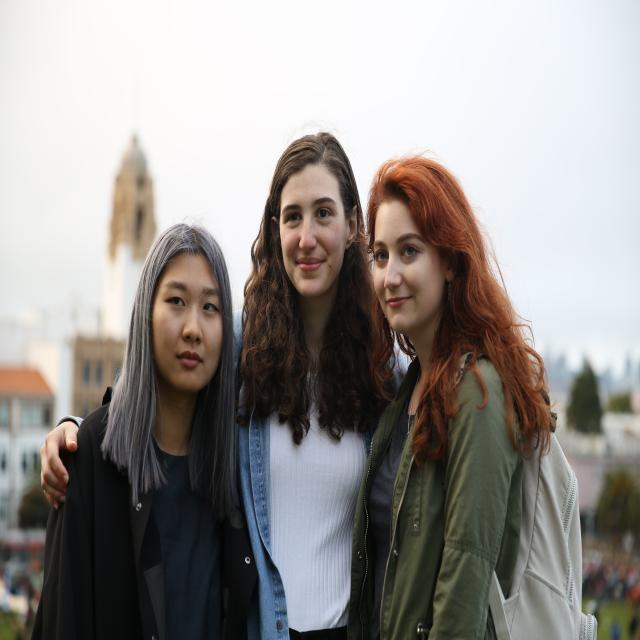body: (39, 128, 414, 640), (344, 152, 602, 640), (30, 218, 259, 638), (580, 541, 639, 640), (2, 543, 43, 640)
